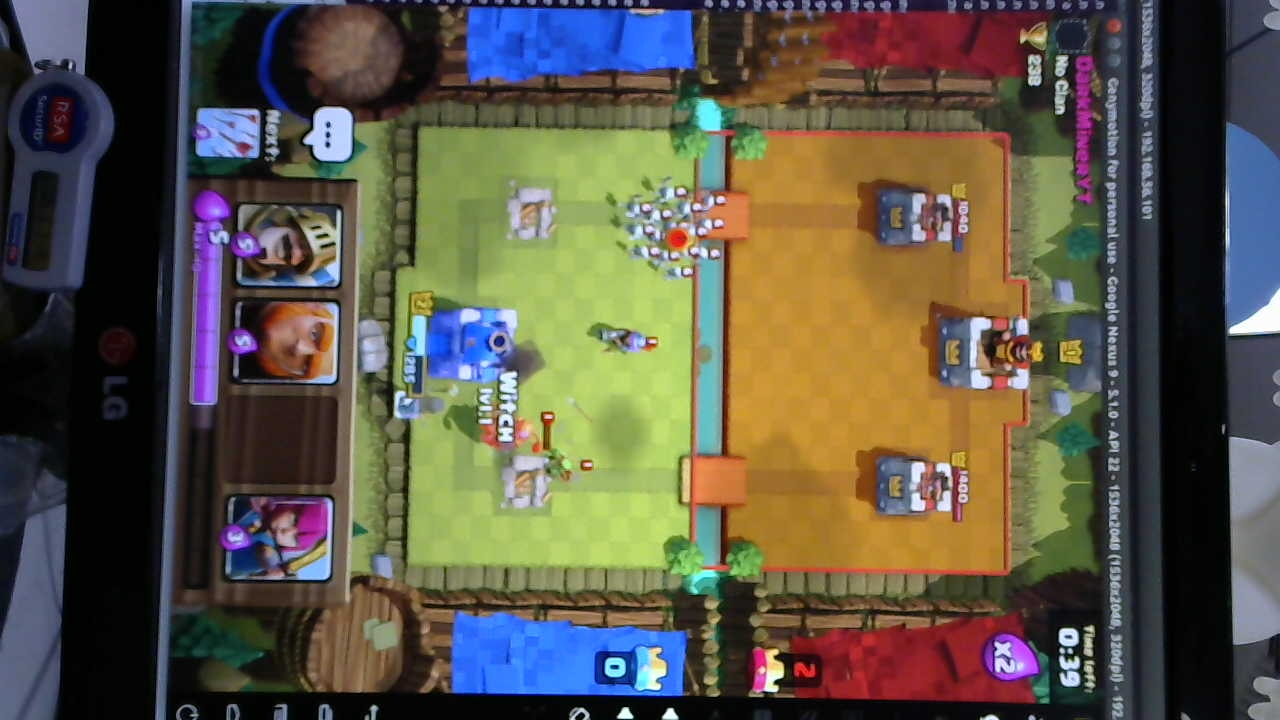darena: (501, 180, 559, 249), (499, 450, 551, 513)
earena: (874, 453, 953, 520), (877, 186, 955, 250)
eking: (939, 315, 1038, 393)
king: (430, 305, 522, 388)
musketeer: (590, 319, 665, 357)
prince: (474, 398, 542, 455)
skeletonarmy: (627, 178, 722, 280)
speargoblin: (542, 452, 581, 486)
